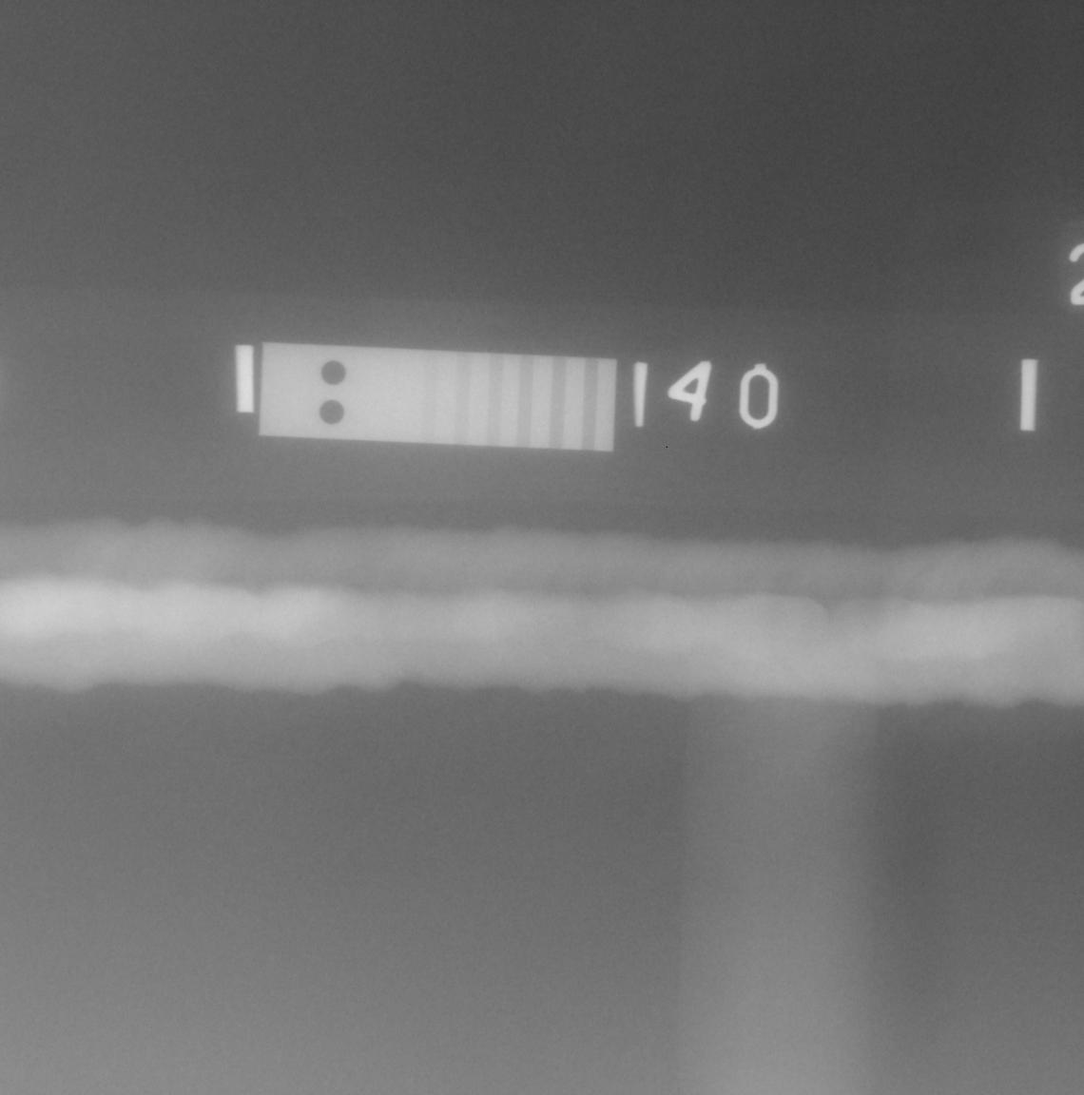Reference Standard 2: (259, 342, 617, 451)
